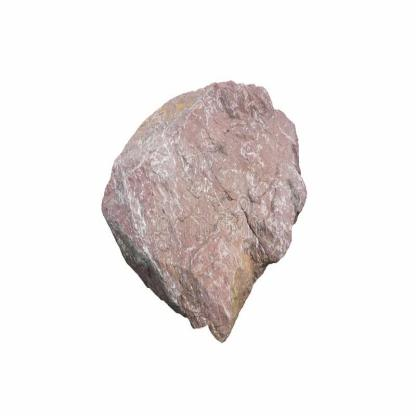Sedimentary_Limestone: (86, 68, 308, 346)
